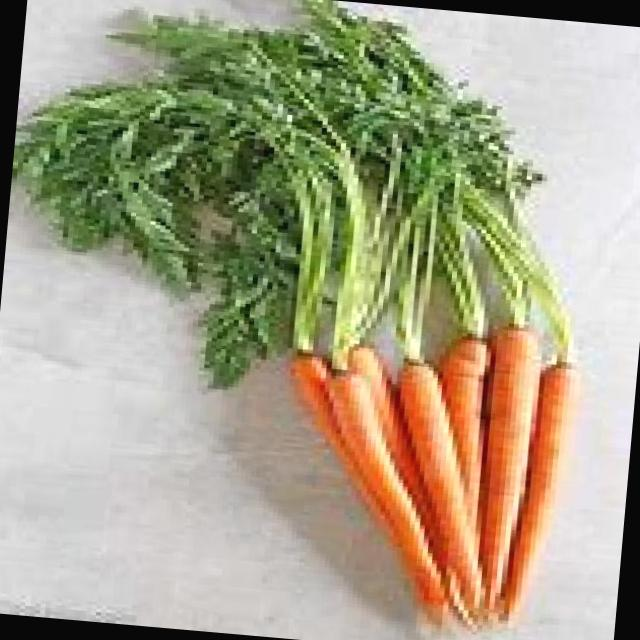carrot: (328, 365, 447, 612), (393, 363, 485, 617), (503, 353, 577, 623), (475, 323, 543, 608)
